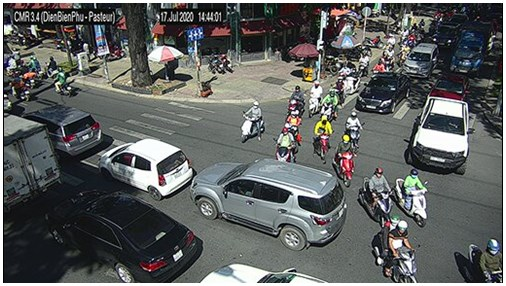xe_hoi: (191, 159, 347, 251), (47, 189, 198, 283), (97, 138, 193, 200), (407, 96, 469, 175), (21, 106, 102, 158), (356, 72, 410, 114), (403, 42, 438, 78), (428, 72, 471, 101), (434, 22, 460, 49)
xe_khach: (450, 30, 486, 73)
xe_may: (372, 220, 420, 284), (358, 167, 395, 223), (394, 169, 427, 227), (467, 236, 502, 283), (333, 135, 356, 188), (240, 101, 265, 142), (275, 122, 296, 162), (314, 115, 333, 159), (344, 111, 363, 150), (53, 68, 73, 97), (321, 89, 339, 121), (307, 80, 321, 117), (287, 111, 301, 145), (288, 85, 304, 114), (13, 75, 30, 101), (28, 56, 44, 78), (348, 68, 361, 95), (334, 77, 346, 105), (45, 56, 59, 79), (384, 46, 395, 72), (25, 68, 39, 88), (359, 52, 369, 77), (399, 44, 410, 66), (399, 27, 408, 46), (373, 58, 384, 73), (386, 35, 396, 51)
